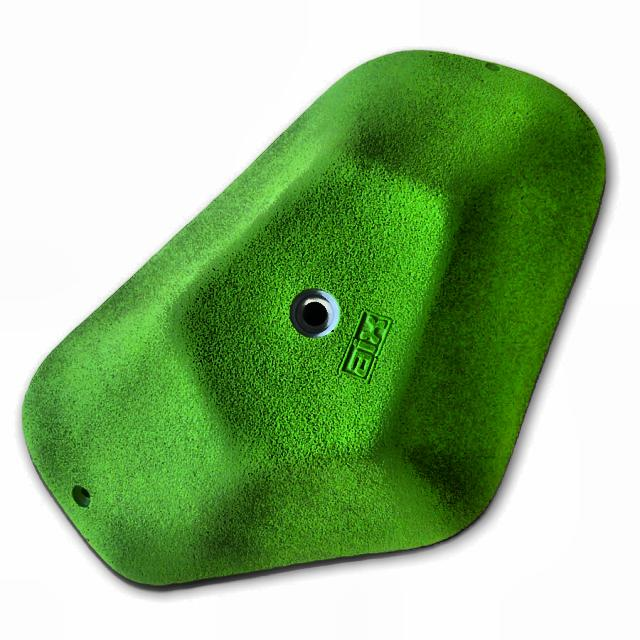Hold: (6, 31, 621, 603)
